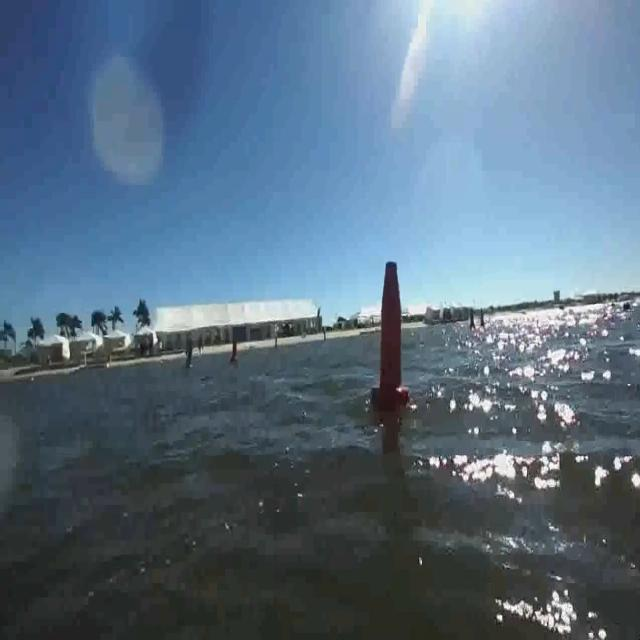red-column-buoy: (370, 256, 408, 411)
